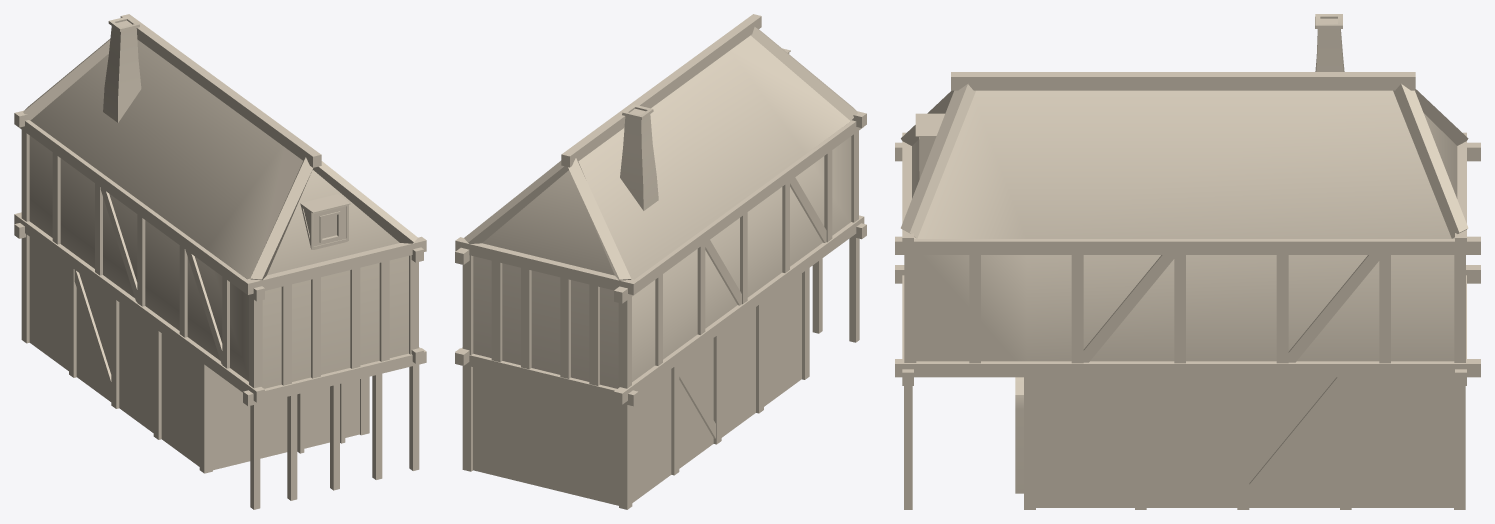
Rendered from house_timber.glb.
3 views of the same model, side by side, from view 1: azimuth 30°, elevation 25°; view 2: azimuth 150°, elevation 25°; view 3: azimuth 270°, elevation 25° (orthographic). The views are drawn at different scales.
Visible parts, largest first — view 1: House2_House2_M_0; view 2: House2_House2_M_0; view 3: House2_House2_M_0.
Part boxes in pixels (x1,y1,x2,y2): House2_House2_M_0: (14, 14, 426, 509); House2_House2_M_0: (455, 14, 866, 509); House2_House2_M_0: (895, 14, 1480, 509).
Size of the model in its own units: 4.2 by 7.8 by 9.87.
